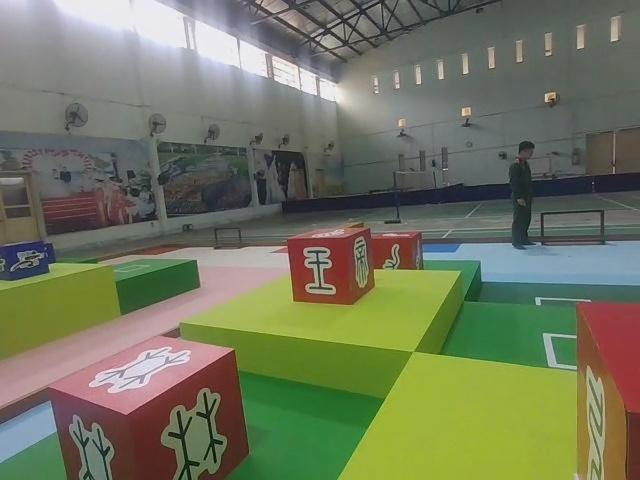R2 Fake: (283, 224, 377, 307)
R2 Real: (42, 330, 252, 480), (370, 229, 425, 275)
